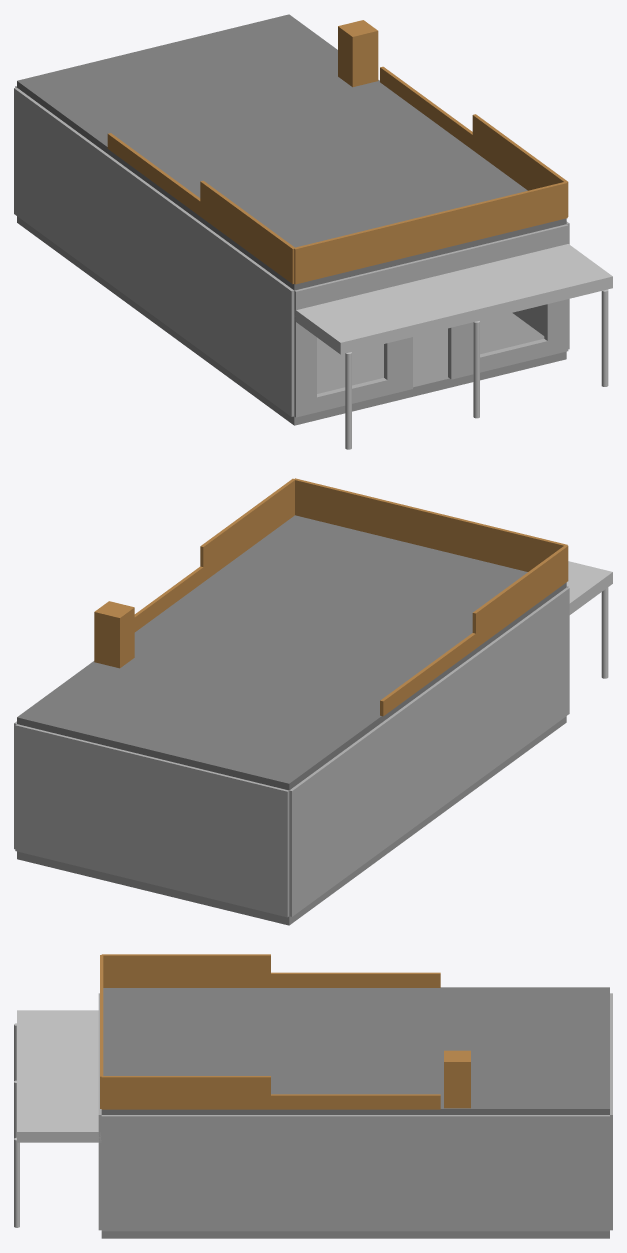
The model's file is building_phase_1a_iter_007.glb.
3 renders of one model, top to bottom at view 1: azimuth 30°, elevation 25°; view 2: azimuth 150°, elevation 25°; view 3: azimuth 270°, elevation 25°, orthographic. The views are drawn at different scales.
Visible parts, largest first — view 1: Roof, Wall_Left, Canopy_Roof, Wall_Front, Parapet_Front, Foundation, Parapet_Left_Front, Parapet_Right_Front, Chimney, Parapet_Left_Middle, Parapet_Right_Middle, Canopy_Post_3 (+3 smaller); view 2: Roof, Wall_Left, Wall_Rear, Parapet_Front, Foundation, Parapet_Left_Front, Parapet_Right_Front, Chimney, Parapet_Left_Middle, Canopy_Roof, Parapet_Right_Middle, Canopy_Post_1; view 3: Wall_Right, Roof, Canopy_Roof, Parapet_Right_Front, Parapet_Left_Front, Foundation, Parapet_Left_Middle, Parapet_Right_Middle, Chimney, Wall_Front, Wall_Rear, Parapet_Front (+1 smaller).
Boxes of the visible parts, x1,y1,x2,y2 form: Roof: (17, 14, 566, 290); Wall_Left: (14, 87, 294, 416); Canopy_Roof: (294, 244, 612, 354); Wall_Front: (294, 224, 568, 417); Parapet_Front: (294, 182, 567, 284); Foundation: (17, 216, 566, 425); Parapet_Left_Front: (200, 180, 295, 283); Parapet_Right_Front: (472, 114, 568, 216); Chimney: (338, 20, 378, 87); Parapet_Left_Middle: (107, 133, 200, 216); Parapet_Right_Middle: (380, 66, 472, 149); Canopy_Post_3: (601, 289, 608, 386); Roof: (17, 515, 566, 790); Wall_Left: (289, 587, 569, 916); Wall_Rear: (15, 724, 289, 917); Parapet_Front: (295, 478, 567, 571); Foundation: (17, 716, 566, 925); Parapet_Left_Front: (472, 545, 568, 648); Parapet_Right_Front: (200, 478, 295, 581); Chimney: (94, 601, 134, 668); Parapet_Left_Middle: (380, 633, 475, 716); Canopy_Roof: (566, 561, 612, 614); Parapet_Right_Middle: (134, 566, 203, 632); Canopy_Post_1: (601, 587, 608, 678); Wall_Right: (101, 1115, 609, 1231); Roof: (101, 987, 609, 1114); Canopy_Roof: (17, 1010, 101, 1142); Parapet_Right_Front: (101, 1076, 270, 1109); Parapet_Left_Front: (101, 954, 270, 987); Foundation: (101, 1231, 609, 1238); Parapet_Left_Middle: (271, 972, 440, 987); Parapet_Right_Middle: (271, 1094, 440, 1109); Chimney: (444, 1050, 470, 1108); Wall_Front: (98, 993, 101, 1230); Wall_Rear: (610, 993, 612, 1230); Parapet_Front: (100, 955, 103, 1108).
Bounding box in the file's own units: 8.68 × 5.73 × 17.68.
